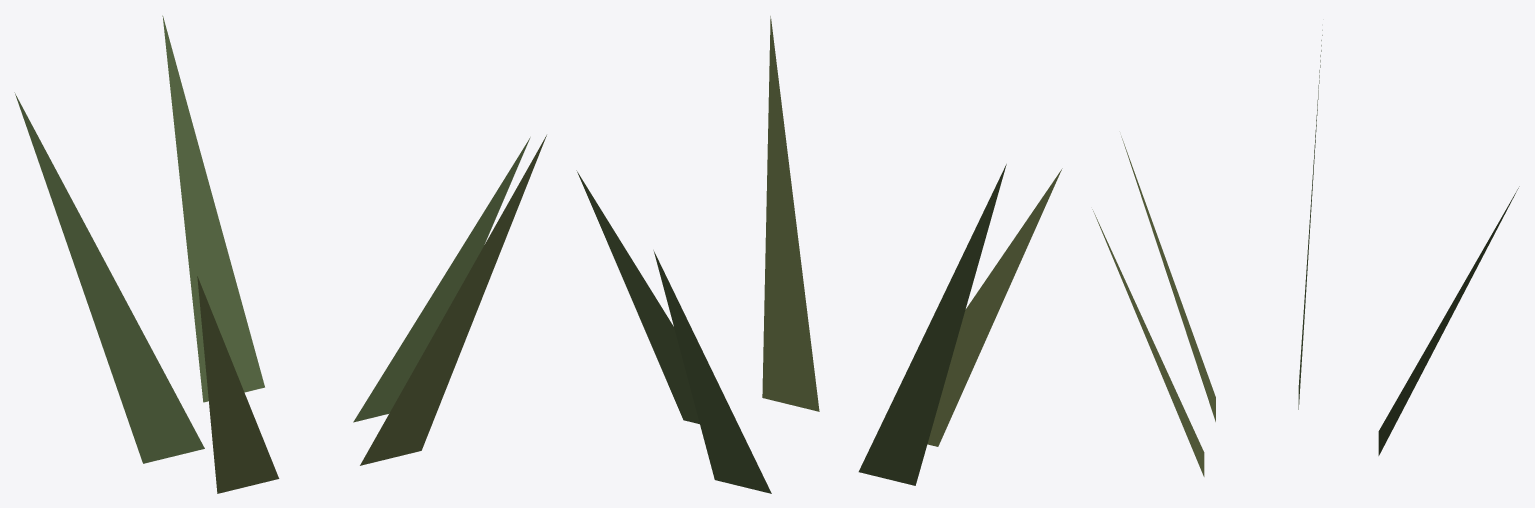
File: grass.glb
3 views of the same model, side by side, from view 1: azimuth 30°, elevation 25°; view 2: azimuth 150°, elevation 25°; view 3: azimuth 270°, elevation 25° (orthographic). The views are drawn at different scales.
Visible parts, largest first — view 1: Трава; view 2: Трава; view 3: Трава.
Boxes of the visible parts, x1=… form: Трава: x1=14, y1=15, x2=546, y2=493; Трава: x1=576, y1=16, x2=1062, y2=493; Трава: x1=1092, y1=30, x2=1519, y2=476.
Size of the model in its own units: 0.6351 by 0.48 by 0.5727.
